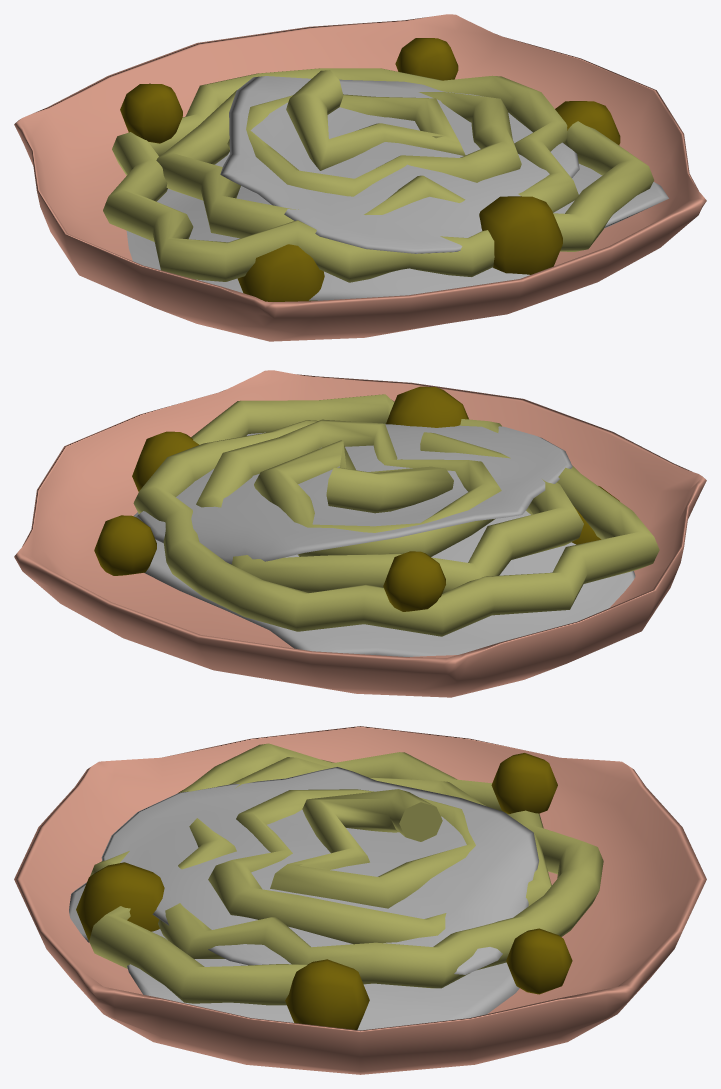
File: Spaghetti_Middle_02.fbx
The picture shows the model from 3 angles, top to bottom: view 1: azimuth 30°, elevation 25°; view 2: azimuth 150°, elevation 25°; view 3: azimuth 270°, elevation 25°; orthographic projection. The views are drawn at different scales.
Visible parts, largest first — view 1: spaghetti_dishes:plate, spaghetti_dishes:piece07, spaghetti_dishes:salsa2, spaghetti_dishes:salsa3, spaghetti_dishes:pCube4, spaghetti_dishes:pCube10, spaghetti_dishes:pCube9, spaghetti_dishes:pCube8, spaghetti_dishes:pCube7; view 2: spaghetti_dishes:piece07, spaghetti_dishes:plate, spaghetti_dishes:salsa2, spaghetti_dishes:salsa3, spaghetti_dishes:pCube8, spaghetti_dishes:pCube9, spaghetti_dishes:pCube4, spaghetti_dishes:pCube7; view 3: spaghetti_dishes:plate, spaghetti_dishes:piece07, spaghetti_dishes:salsa2, spaghetti_dishes:salsa3, spaghetti_dishes:pCube7, spaghetti_dishes:pCube4, spaghetti_dishes:pCube8, spaghetti_dishes:pCube9.
Part boxes in pixels (x1,y1,x2,y2): spaghetti_dishes:plate: (14, 14, 706, 341); spaghetti_dishes:piece07: (103, 68, 654, 282); spaghetti_dishes:salsa2: (220, 76, 579, 253); spaghetti_dishes:salsa3: (126, 152, 668, 300); spaghetti_dishes:pCube4: (479, 196, 562, 274); spaghetti_dishes:pCube10: (237, 244, 324, 301); spaghetti_dishes:pCube9: (120, 83, 182, 143); spaghetti_dishes:pCube8: (395, 38, 458, 80); spaghetti_dishes:pCube7: (555, 101, 620, 145); spaghetti_dishes:piece07: (133, 394, 659, 636); spaghetti_dishes:plate: (14, 370, 706, 697); spaghetti_dishes:salsa2: (136, 424, 572, 564); spaghetti_dishes:salsa3: (133, 432, 635, 656); spaghetti_dishes:pCube8: (94, 515, 156, 575); spaghetti_dishes:pCube9: (383, 551, 445, 611); spaghetti_dishes:pCube4: (386, 386, 468, 427); spaghetti_dishes:pCube7: (132, 431, 199, 491); spaghetti_dishes:plate: (14, 726, 706, 1074); spaghetti_dishes:piece07: (89, 743, 603, 1005); spaghetti_dishes:salsa2: (101, 767, 538, 974); spaghetti_dishes:salsa3: (69, 882, 519, 1030); spaghetti_dishes:pCube7: (285, 959, 369, 1029); spaghetti_dishes:pCube4: (76, 862, 164, 940); spaghetti_dishes:pCube8: (506, 928, 572, 994); spaghetti_dishes:pCube9: (491, 753, 557, 813).
Size of the model in its own units: 10.63 by 2.55 by 10.15.
